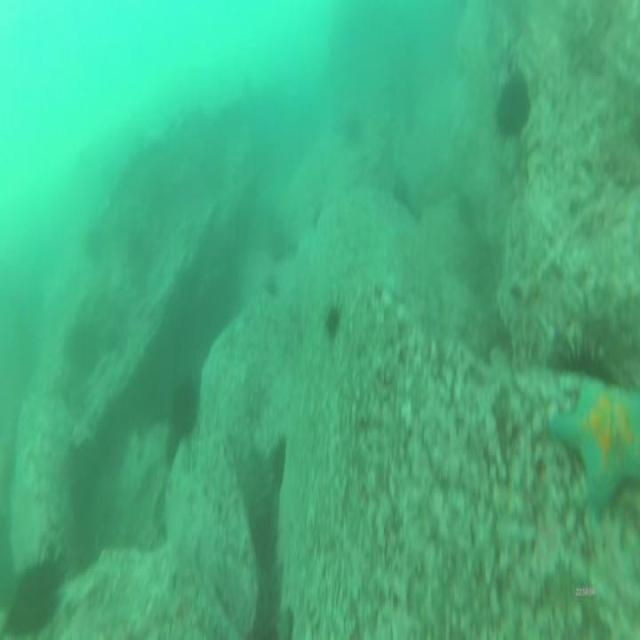echinus: (2, 551, 62, 640), (548, 326, 620, 388), (491, 70, 535, 148), (167, 376, 202, 438), (68, 316, 102, 376), (250, 512, 281, 575), (266, 434, 290, 490), (81, 222, 107, 266), (267, 224, 289, 266), (342, 110, 364, 152), (322, 300, 341, 344), (262, 275, 283, 302)
starfish: (551, 368, 640, 522)
